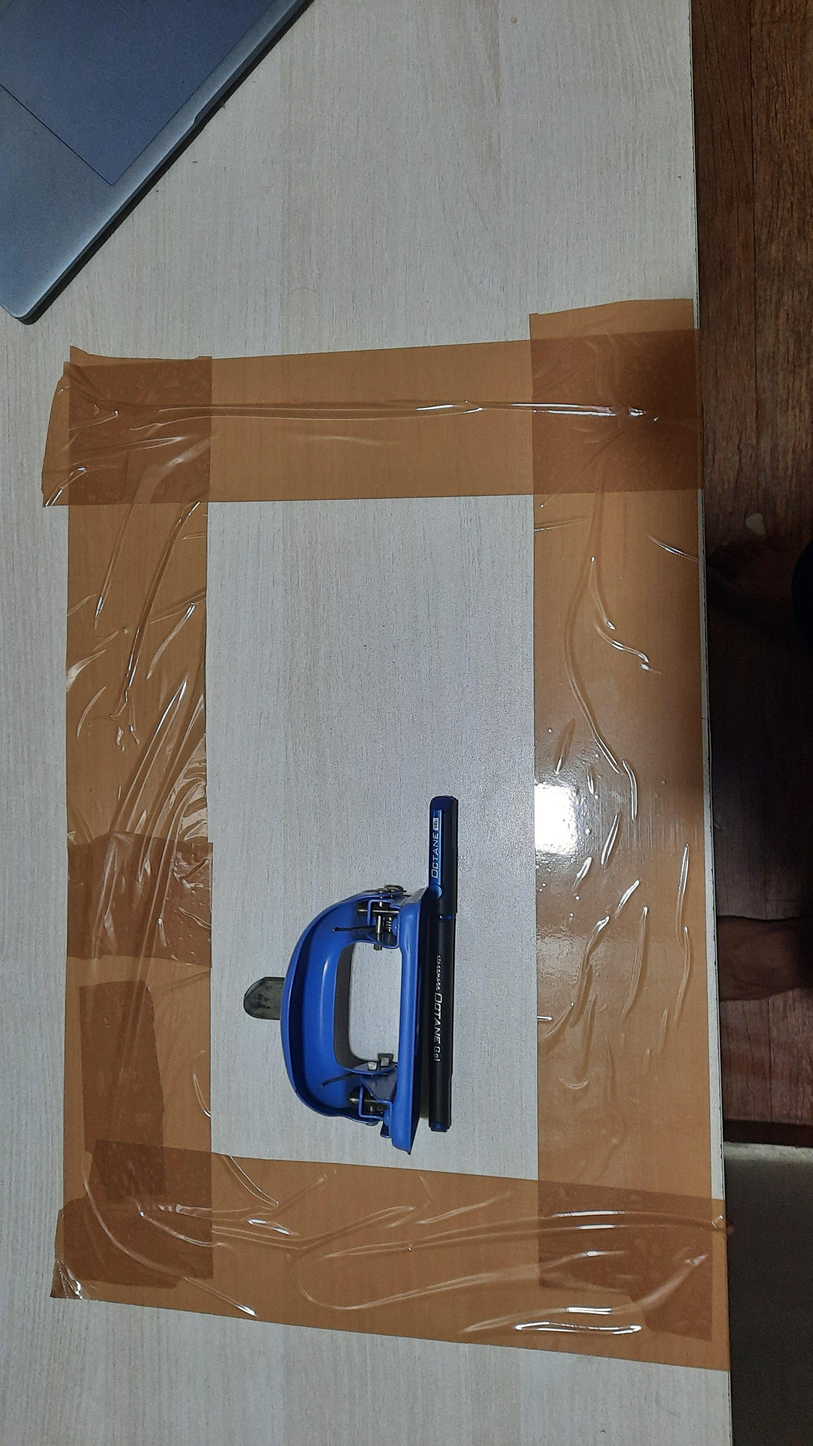Pen: (423, 795, 459, 1133)
Punch: (243, 882, 430, 1156)
